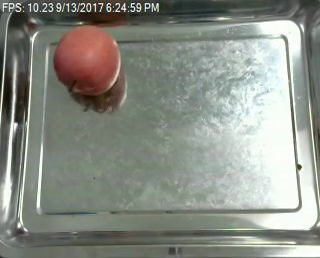Apple: (50, 24, 121, 100)
